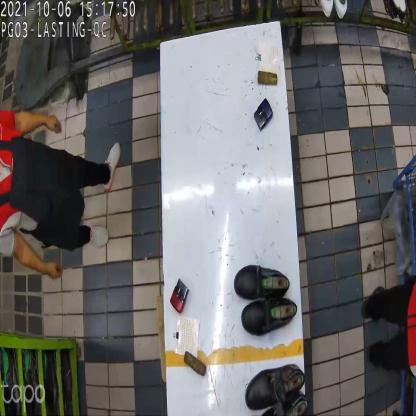shoes: (231, 263, 299, 339), (244, 366, 310, 415)
stamp: (254, 97, 274, 131), (170, 280, 190, 314)
